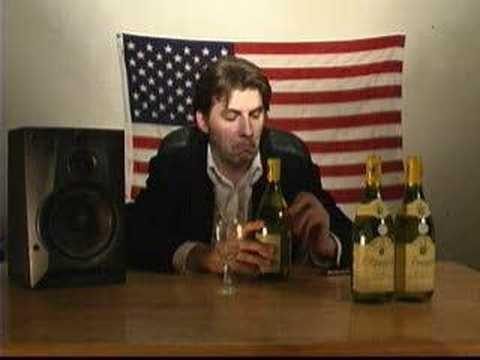Drunk: (214, 88, 264, 162)
